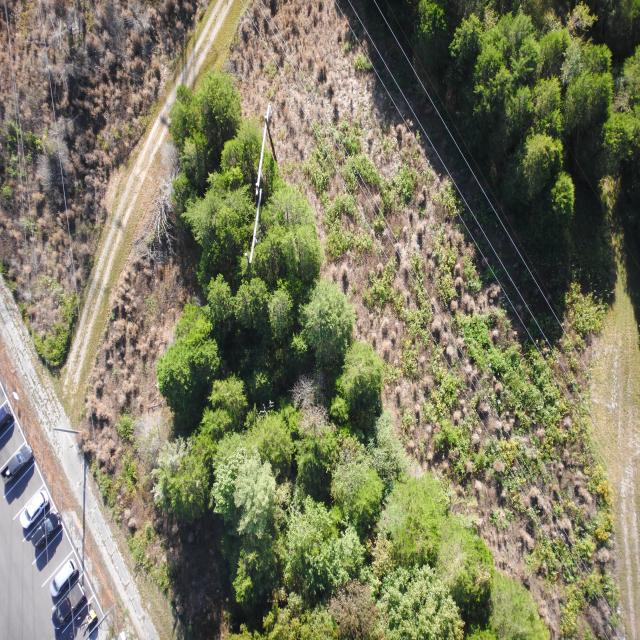Area of Interest: (168, 76, 538, 638), (416, 15, 640, 220)
